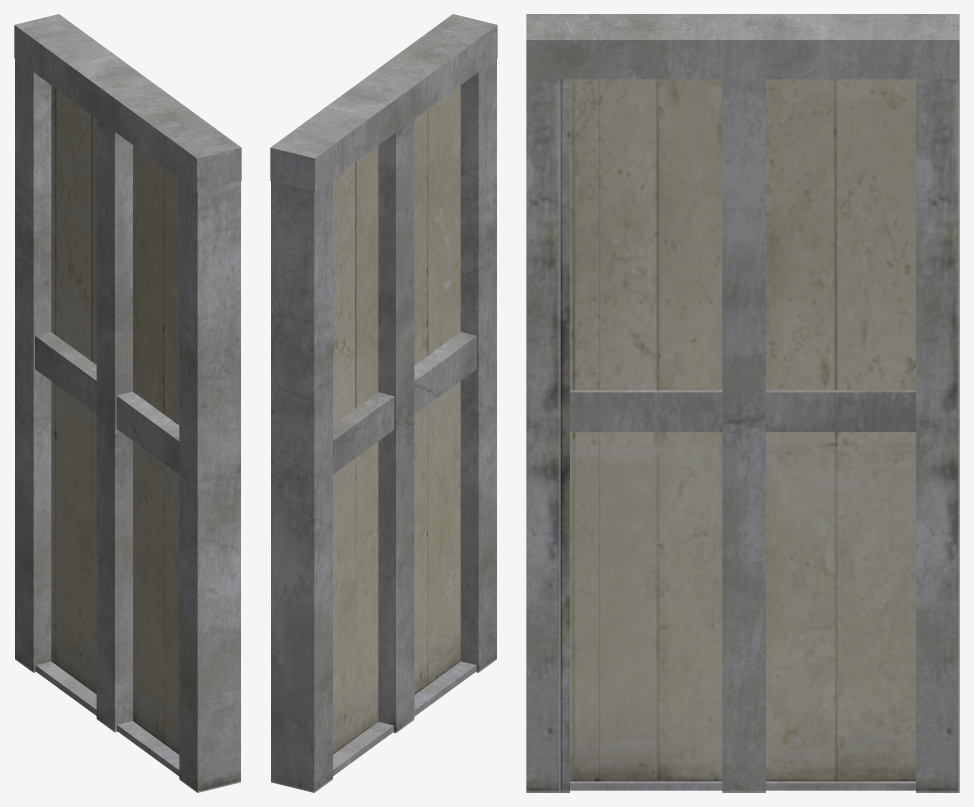
The model's file is fund_pillar_01.fbx.
The picture shows the model from 3 angles, left to right: view 1: azimuth 30°, elevation 25°; view 2: azimuth 150°, elevation 25°; view 3: azimuth 270°, elevation 25°; orthographic projection. The views are drawn at different scales.
Visible parts, largest first — view 1: fund_pillar_01; view 2: fund_pillar_01; view 3: fund_pillar_01.
Boxes of the visible parts, <box> form: fund_pillar_01: <box>14,14,241,792</box>; fund_pillar_01: <box>270,14,497,792</box>; fund_pillar_01: <box>526,14,959,792</box>.
Bounding box in the file's own units: 0.0103 × 0.14 × 0.073.
